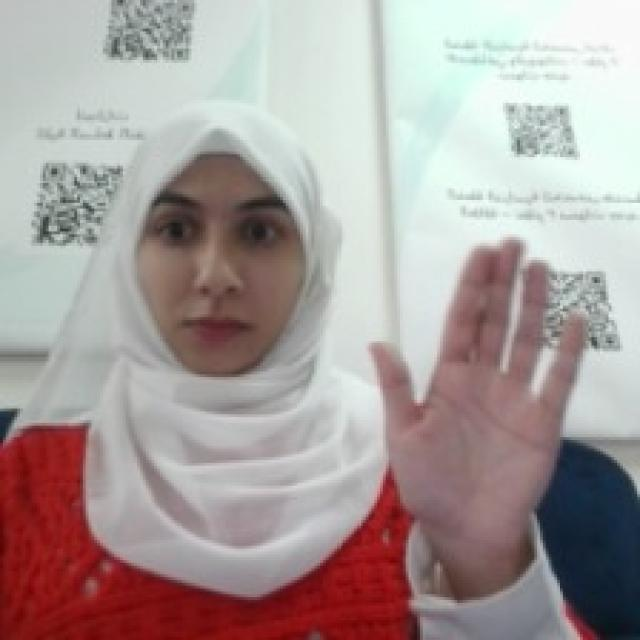Hello: (360, 228, 594, 566)
